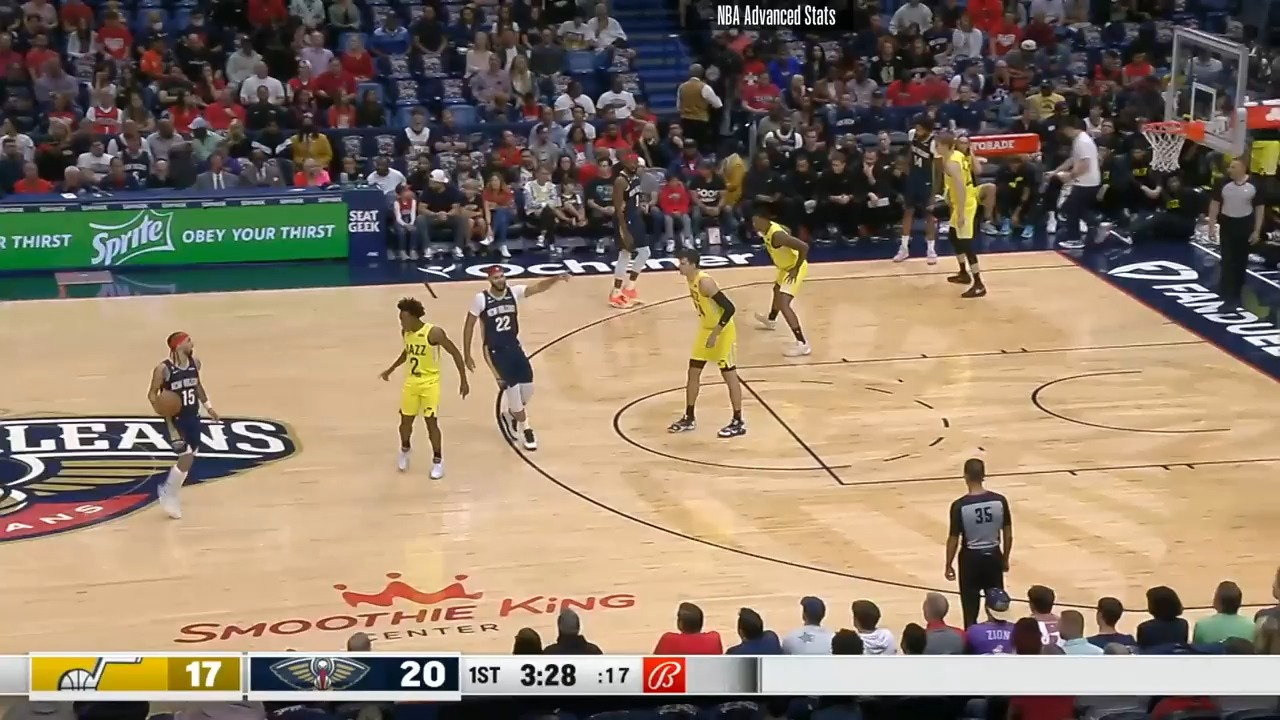net: (1136, 113, 1206, 174)
player: (465, 265, 558, 460), (381, 295, 473, 485), (667, 247, 747, 439), (145, 328, 224, 520), (746, 212, 810, 360), (937, 130, 991, 303), (601, 152, 654, 310), (893, 121, 944, 269)
referee: (944, 461, 1018, 626), (1204, 158, 1261, 326)
